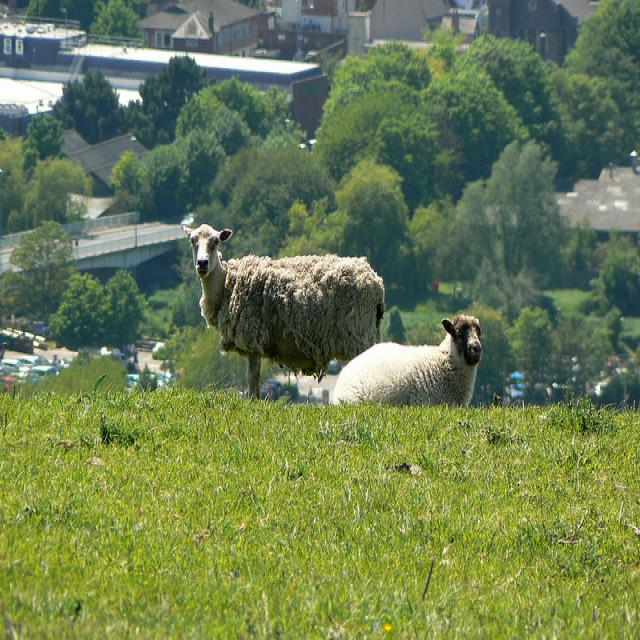Vehicle: (29, 364, 60, 382), (2, 359, 32, 372), (152, 342, 168, 360)
